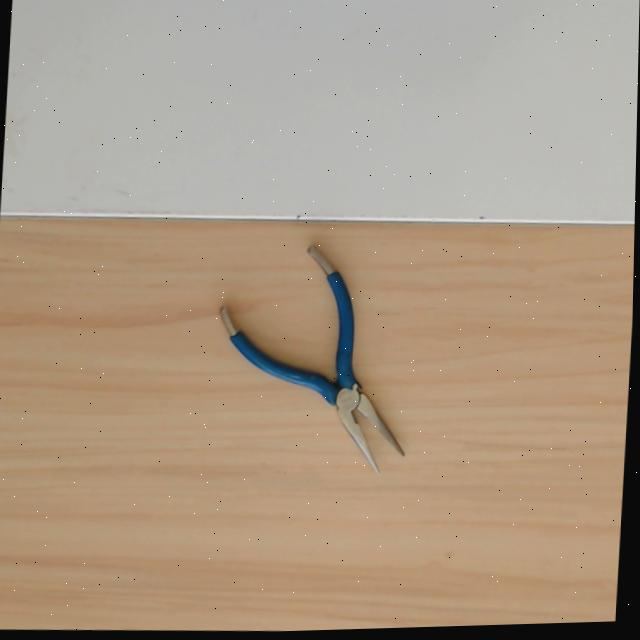Tang-Jepit-Biru: (208, 235, 451, 496)
